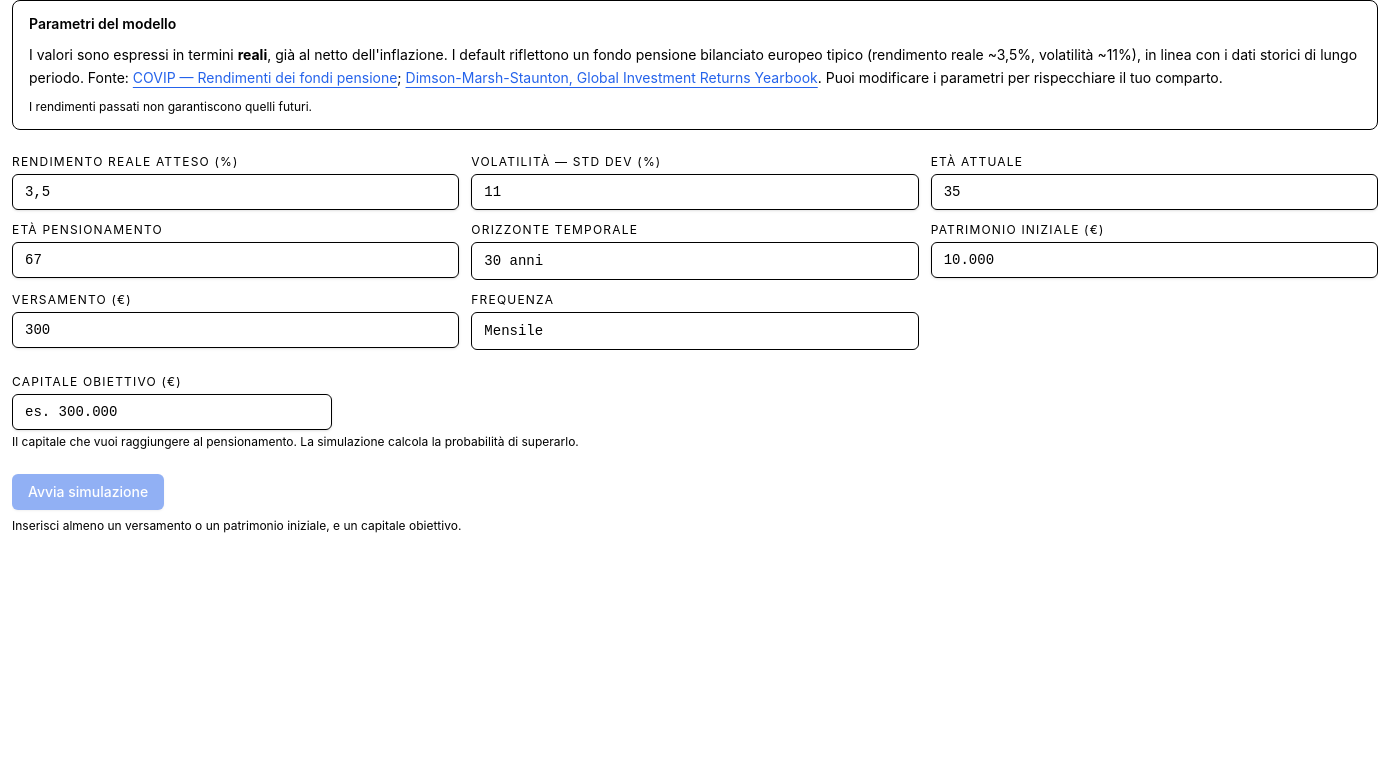
MonteCarlo component › simulation results › shows all three scenario rows (P10, P50, P90)
The image size is (1390, 768).
In the field labelled "Capitale obiettivo (€)": [172, 412] box [12, 394, 332, 430], type "200.000"
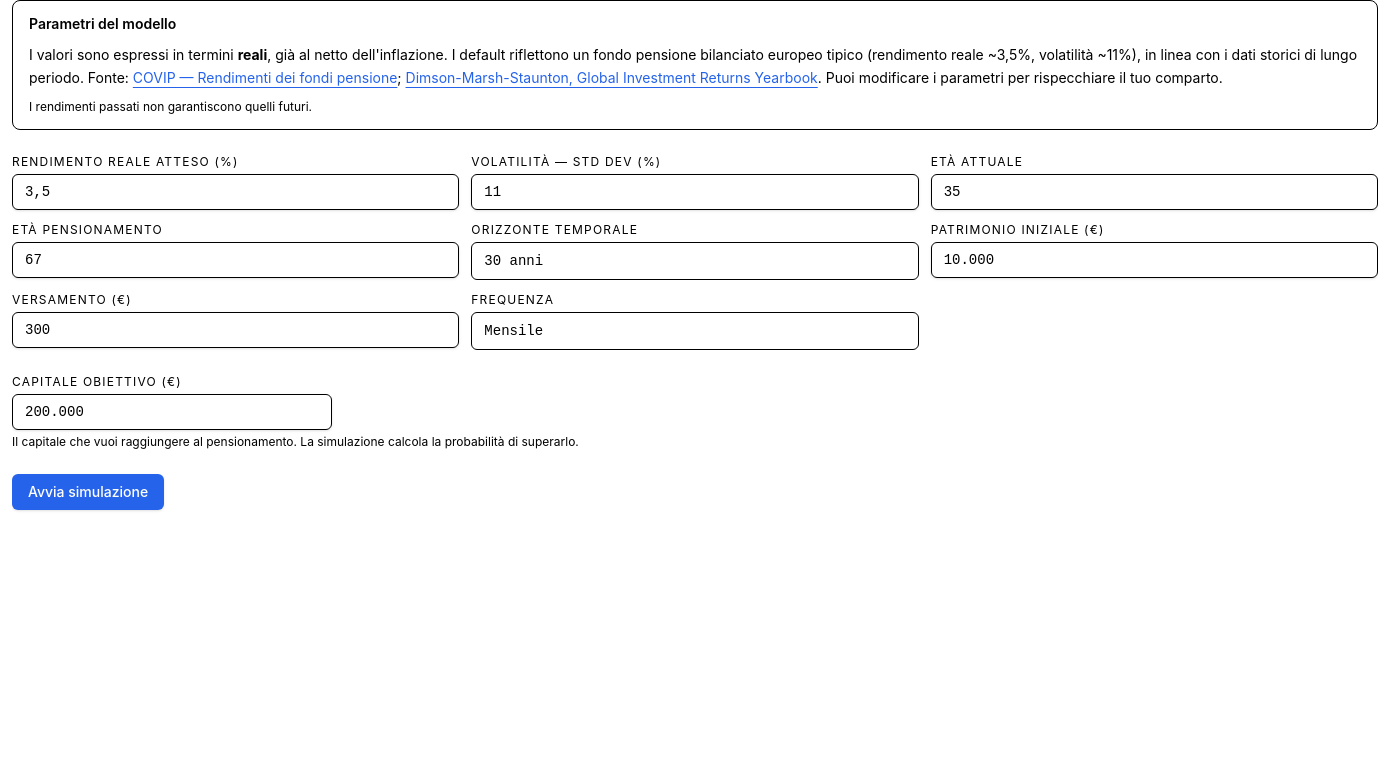
Click the button "Avvia simulazione": [88, 492] box [12, 474, 164, 510]
(page scrolled)
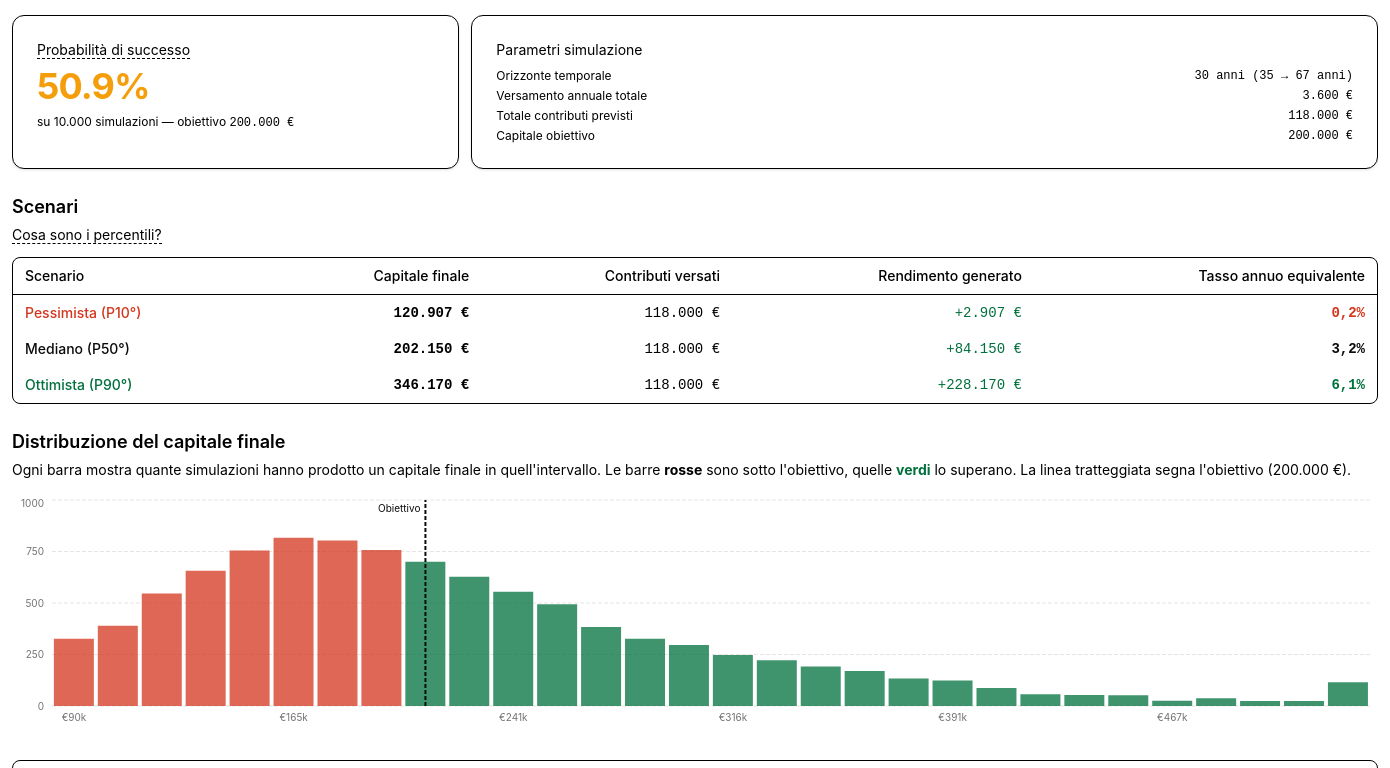
Result: the text "Pessimista (P10°)" is shown at [13, 294, 266, 331]
Result: the text "Mediano (P50°)" is shown at [13, 331, 266, 367]
Result: the text "Ottimista (P90°)" is shown at [13, 367, 266, 403]
